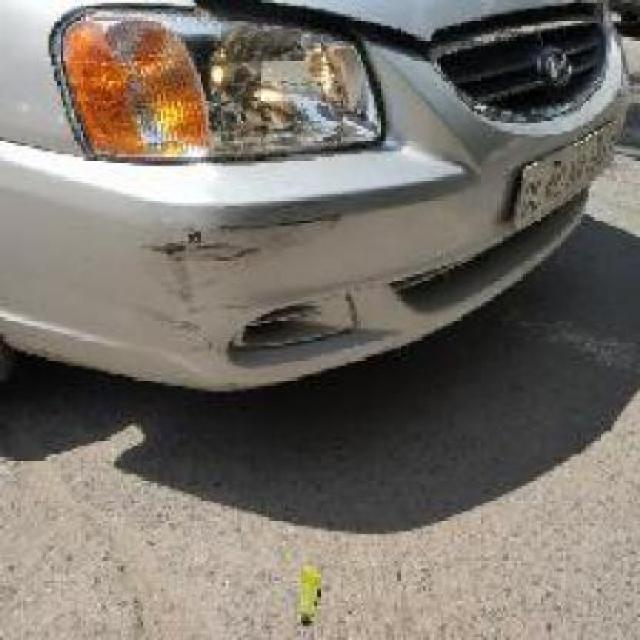dent-or-scratch: (148, 216, 238, 324)
